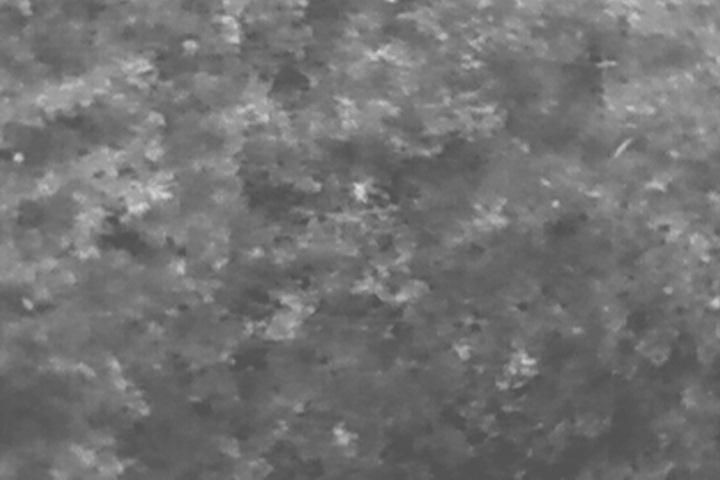landmine: (350, 177, 375, 205)
